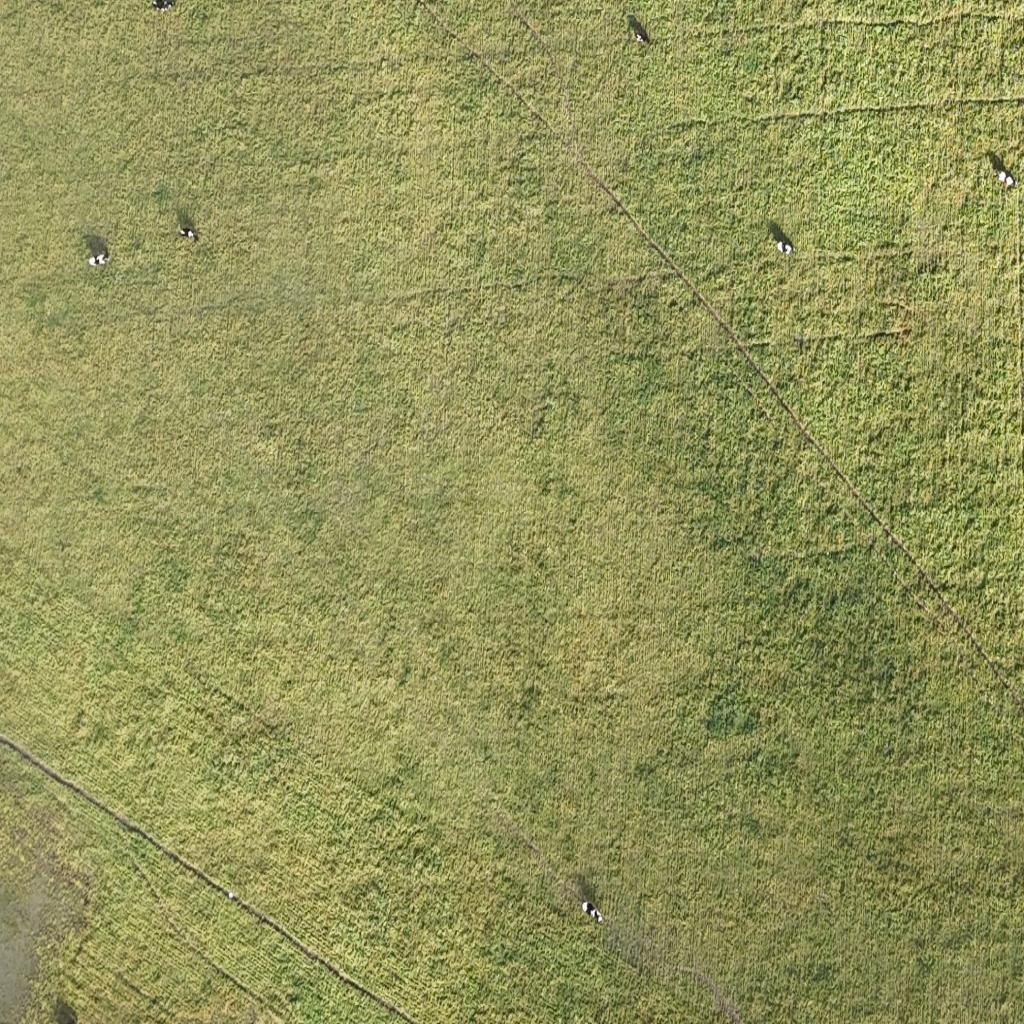cow: (627, 15, 649, 46), (581, 899, 603, 925), (178, 226, 199, 242), (90, 253, 109, 267), (994, 171, 1010, 187), (776, 239, 792, 254), (581, 900, 591, 916)
